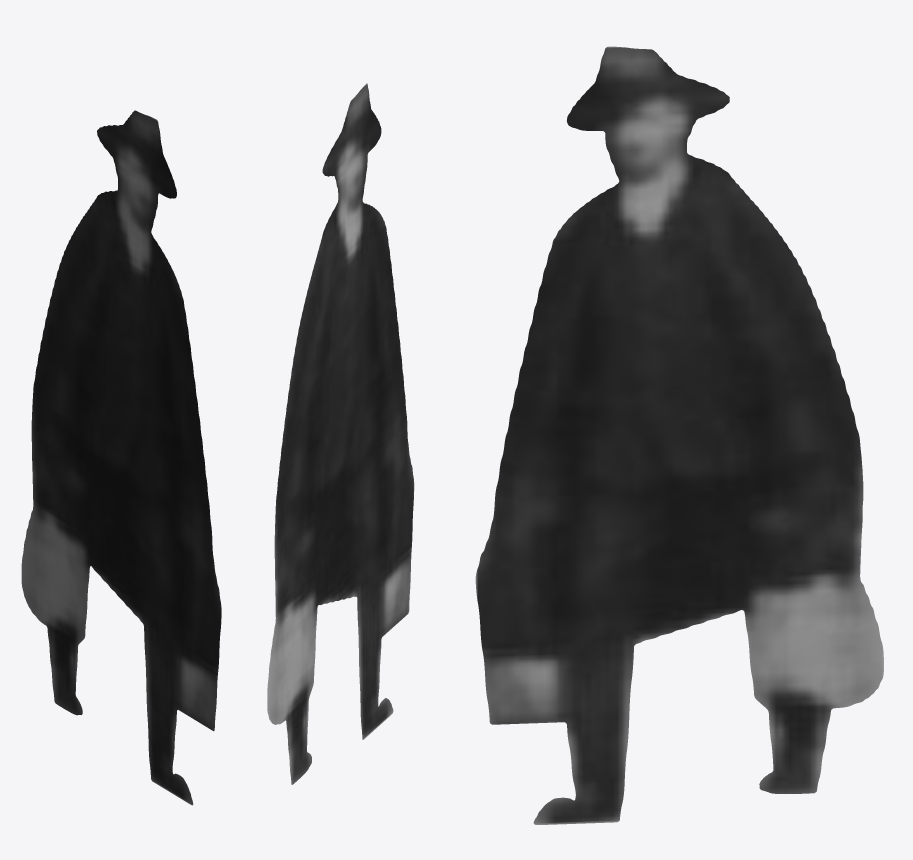
File: Old_WalkingMan.FBX
The picture shows the model from 3 angles, left to right: view 1: azimuth 30°, elevation 25°; view 2: azimuth 150°, elevation 25°; view 3: azimuth 270°, elevation 25°; orthographic projection. The views are drawn at different scales.
Parts seen in each view (by area): view 1: WalkingMan; view 2: WalkingMan; view 3: WalkingMan.
Part boxes in pixels (x1,y1,x2,y2): WalkingMan: (21, 110, 221, 805); WalkingMan: (267, 83, 414, 784); WalkingMan: (475, 46, 883, 824).
Size of the model in its own units: 7.4 by 178 by 88.36.
Materials: 1 (1 with a texture image).
